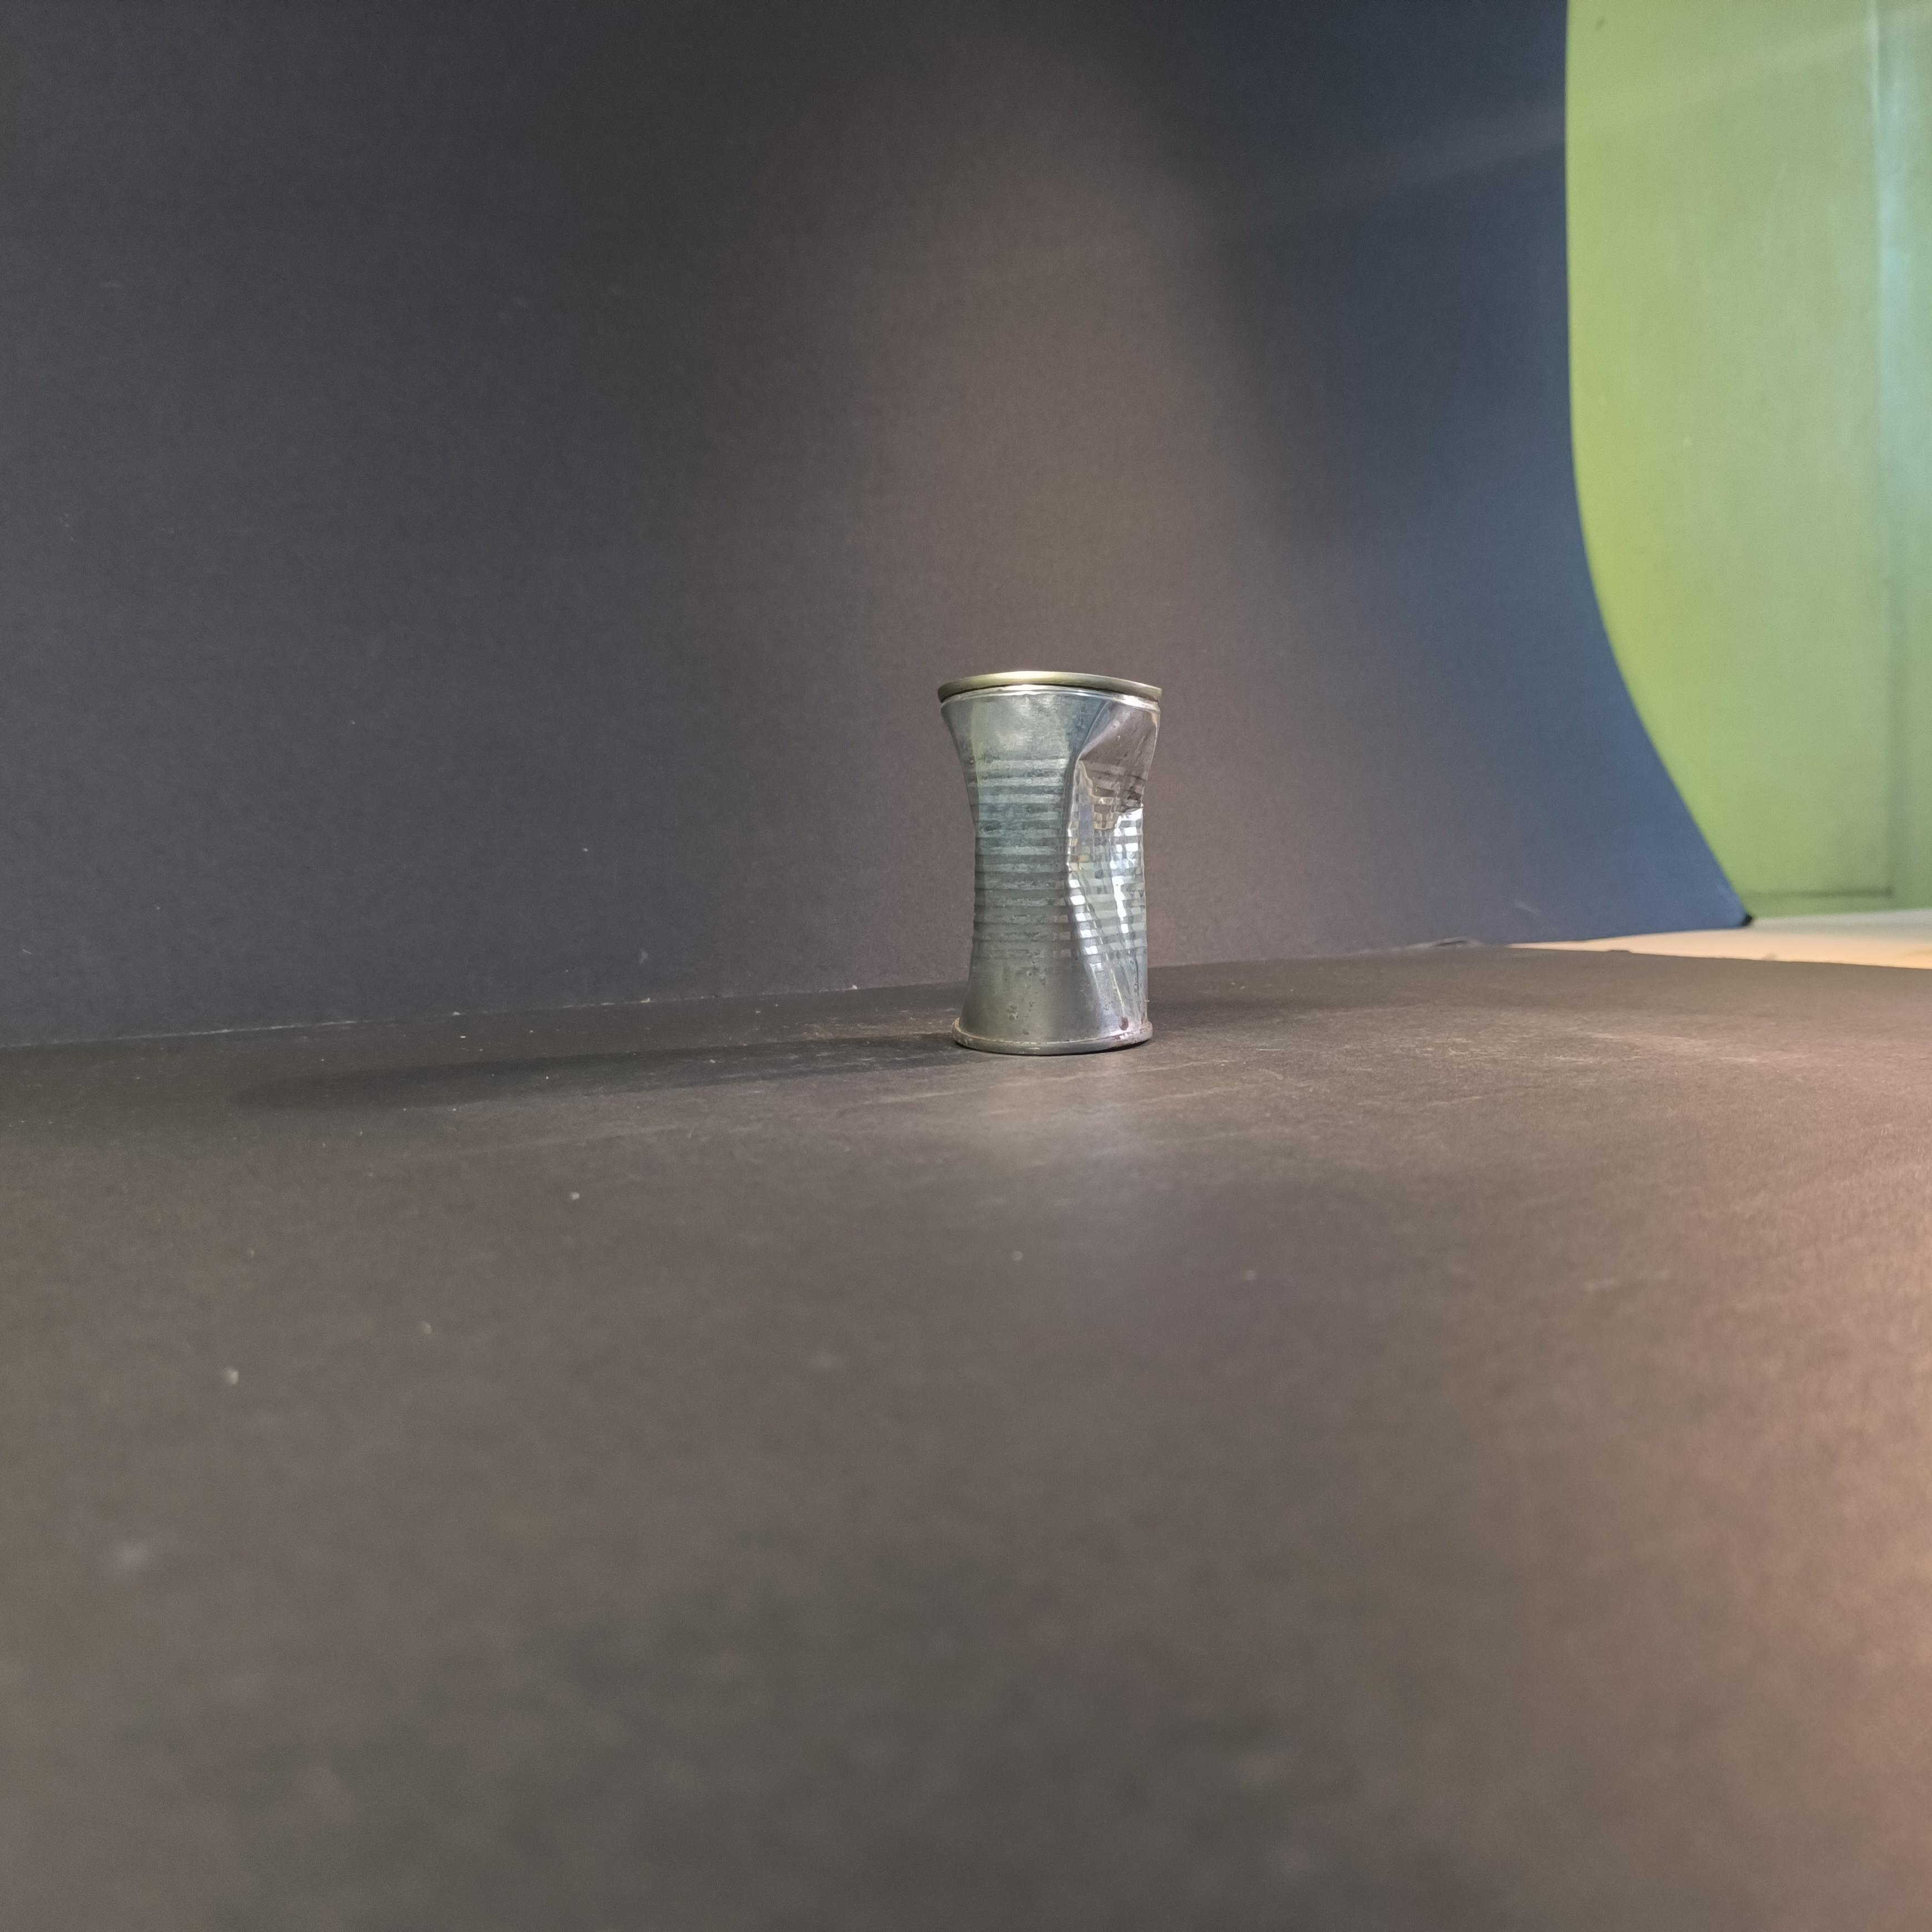Dented: (922, 635, 1177, 1074)
